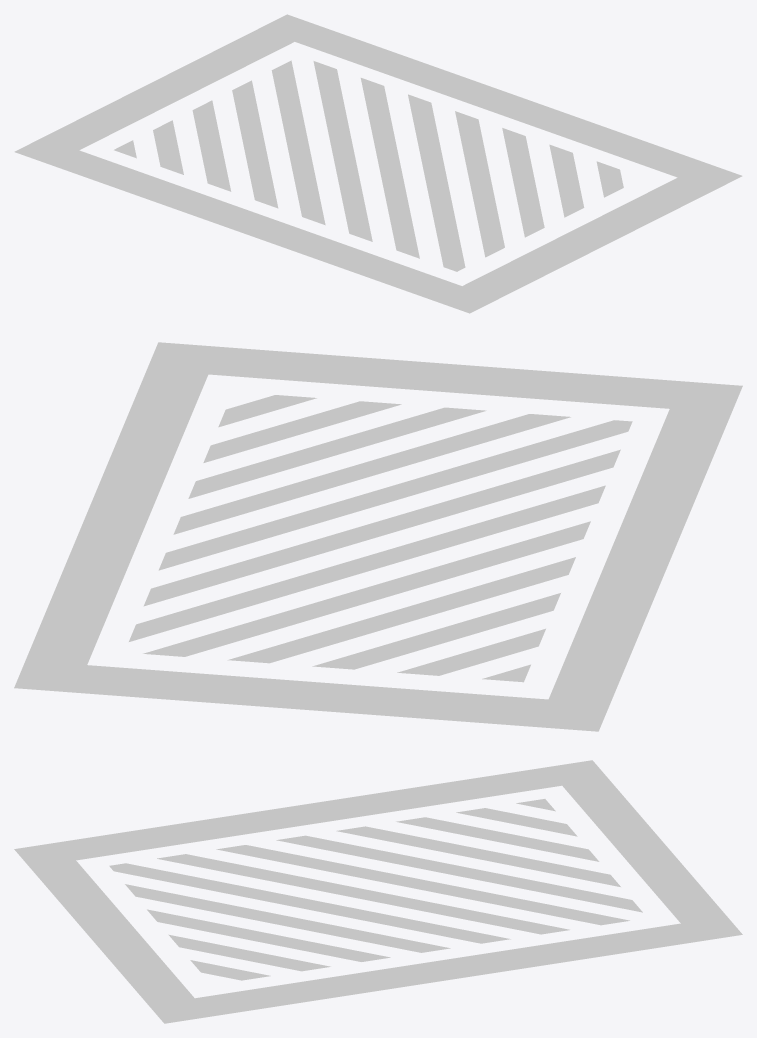
File: kd_stage_135fe0_5_1.glb
3 renders of one model, top to bottom at view 1: azimuth 30°, elevation 25°; view 2: azimuth 150°, elevation 25°; view 3: azimuth 270°, elevation 25°, orthographic. The views are drawn at different scales.
Visible parts, largest first — view 1: kd_stage_135fe0_5_1; view 2: kd_stage_135fe0_5_1; view 3: kd_stage_135fe0_5_1.
Boxes of the visible parts, x1,y1,x2,y2 form: kd_stage_135fe0_5_1: [14, 14, 742, 313]; kd_stage_135fe0_5_1: [14, 342, 742, 731]; kd_stage_135fe0_5_1: [14, 760, 742, 1023].
Size of the model in its own units: 0.7093 by 0 by 0.8288.
Materials: 1 (1 with a texture image).
